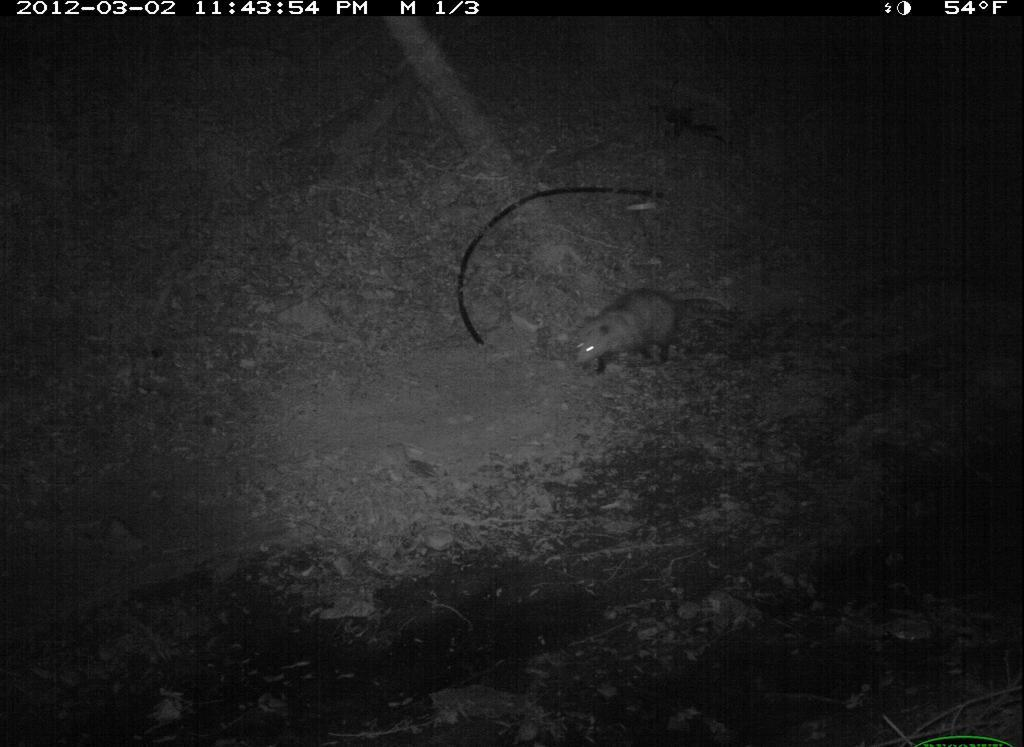opossum: (565, 277, 738, 385)
